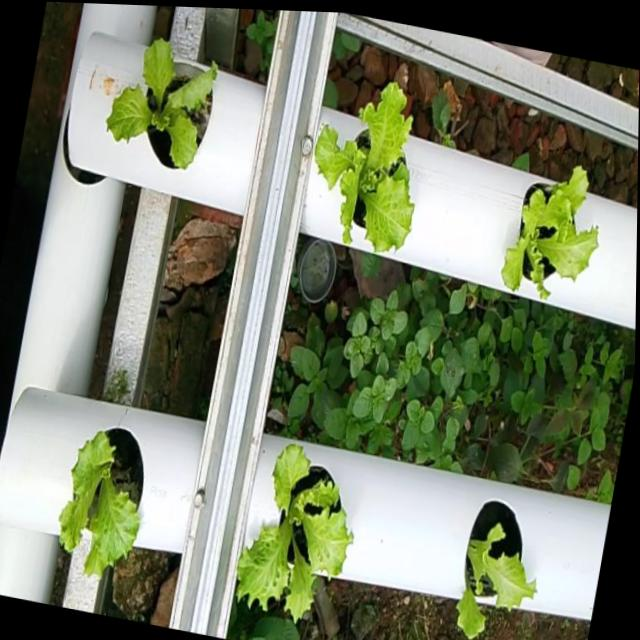Baby: (235, 445, 353, 625), (314, 83, 414, 254), (106, 38, 218, 170), (501, 166, 598, 300), (59, 428, 143, 576), (457, 500, 536, 638)
